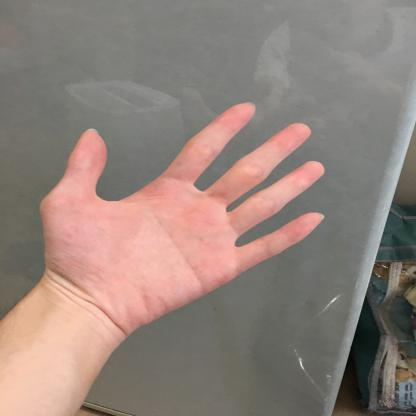bare_hand: (35, 91, 334, 332)
